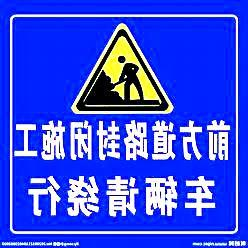sign: (7, 12, 240, 237)
